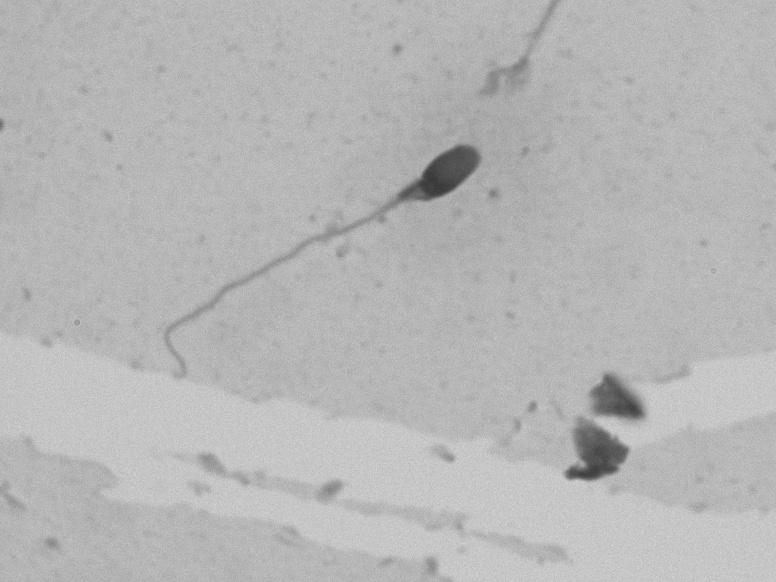Abnormal: (143, 125, 538, 396)
